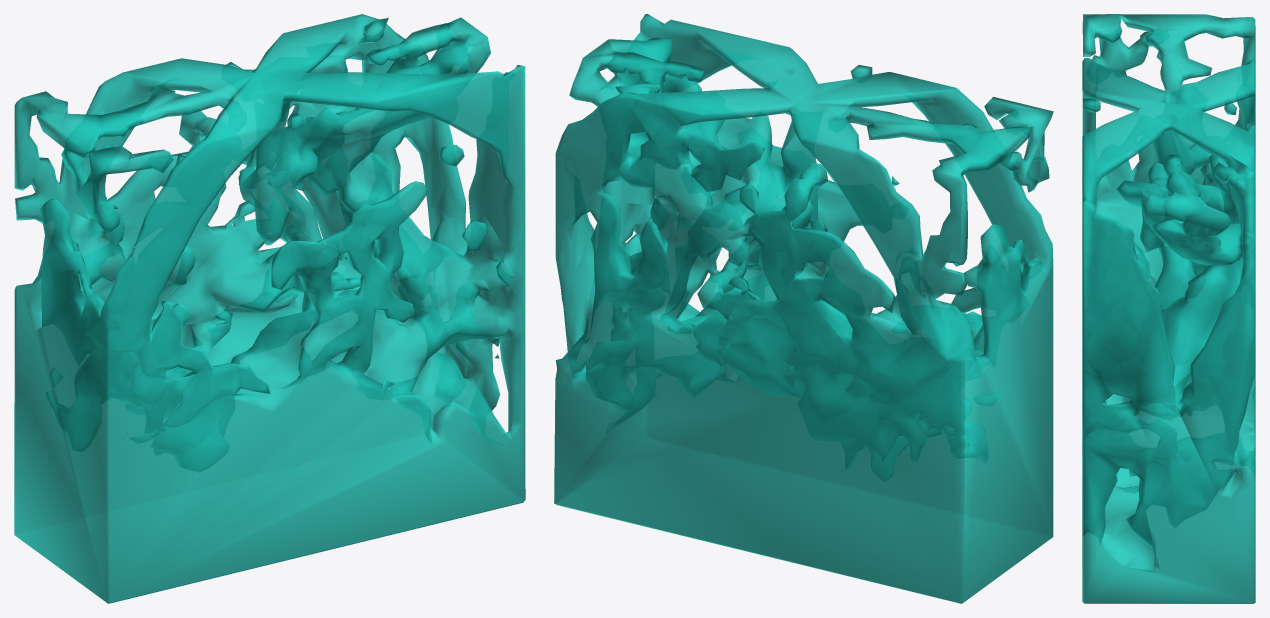
3 views of the same model, side by side, from view 1: azimuth 30°, elevation 25°; view 2: azimuth 150°, elevation 25°; view 3: azimuth 270°, elevation 25° (orthographic). The views are drawn at different scales.
Parts seen in each view (by area): view 1: Liquid_Domain; view 2: Liquid_Domain; view 3: Liquid_Domain.
Part boxes in pixels (x1,y1,x2,y2): Liquid_Domain: (14, 14, 525, 603); Liquid_Domain: (554, 14, 1053, 603); Liquid_Domain: (1082, 14, 1255, 603).
Size of the model in its own units: 884 by 884 by 345.
